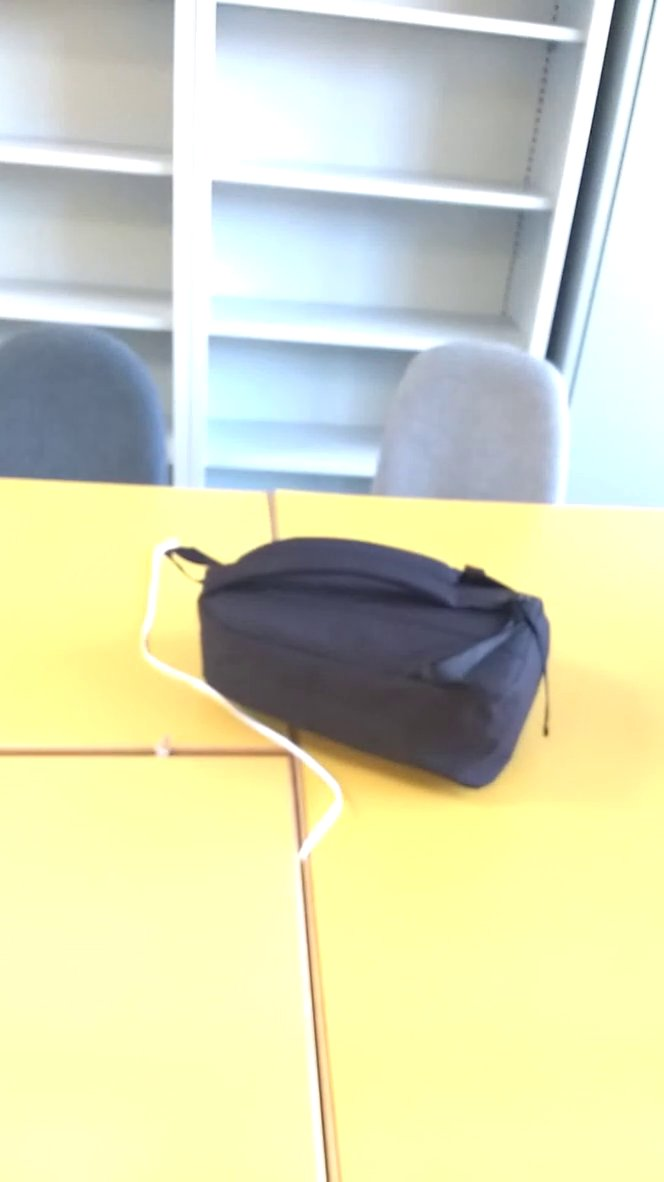bag: (159, 522, 569, 795)
chair: (359, 328, 592, 522), (2, 317, 181, 508)
